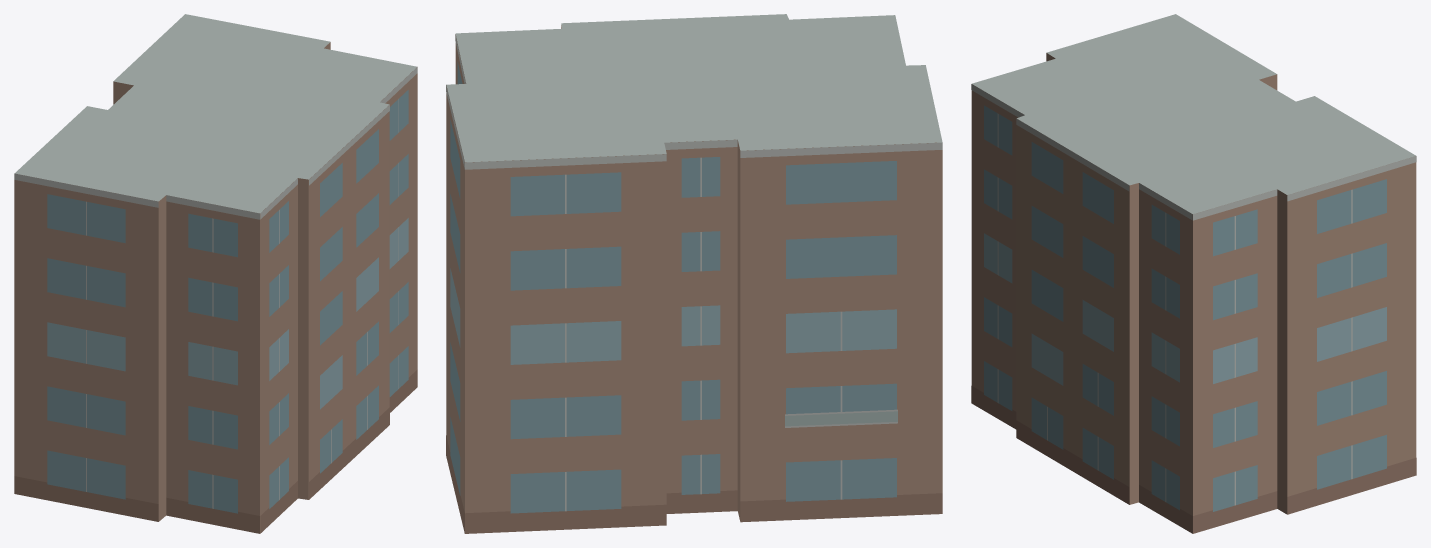
The model's file is survey-upis-32998864.glb.
The picture shows the model from 3 angles, left to right: view 1: azimuth 30°, elevation 25°; view 2: azimuth 150°, elevation 25°; view 3: azimuth 270°, elevation 25°; orthographic projection. The views are drawn at different scales.
Parts seen in each view (by area): view 1: survey-upis-32998864.tmp; view 2: survey-upis-32998864.tmp; view 3: survey-upis-32998864.tmp.
Part boxes in pixels (box(x1,y1,x2,y2)): survey-upis-32998864.tmp: box(14, 14, 417, 533); survey-upis-32998864.tmp: box(446, 14, 942, 533); survey-upis-32998864.tmp: box(971, 14, 1416, 533).
Bounding box in the file's own units: 16.54 × 12.3 × 15.53.
